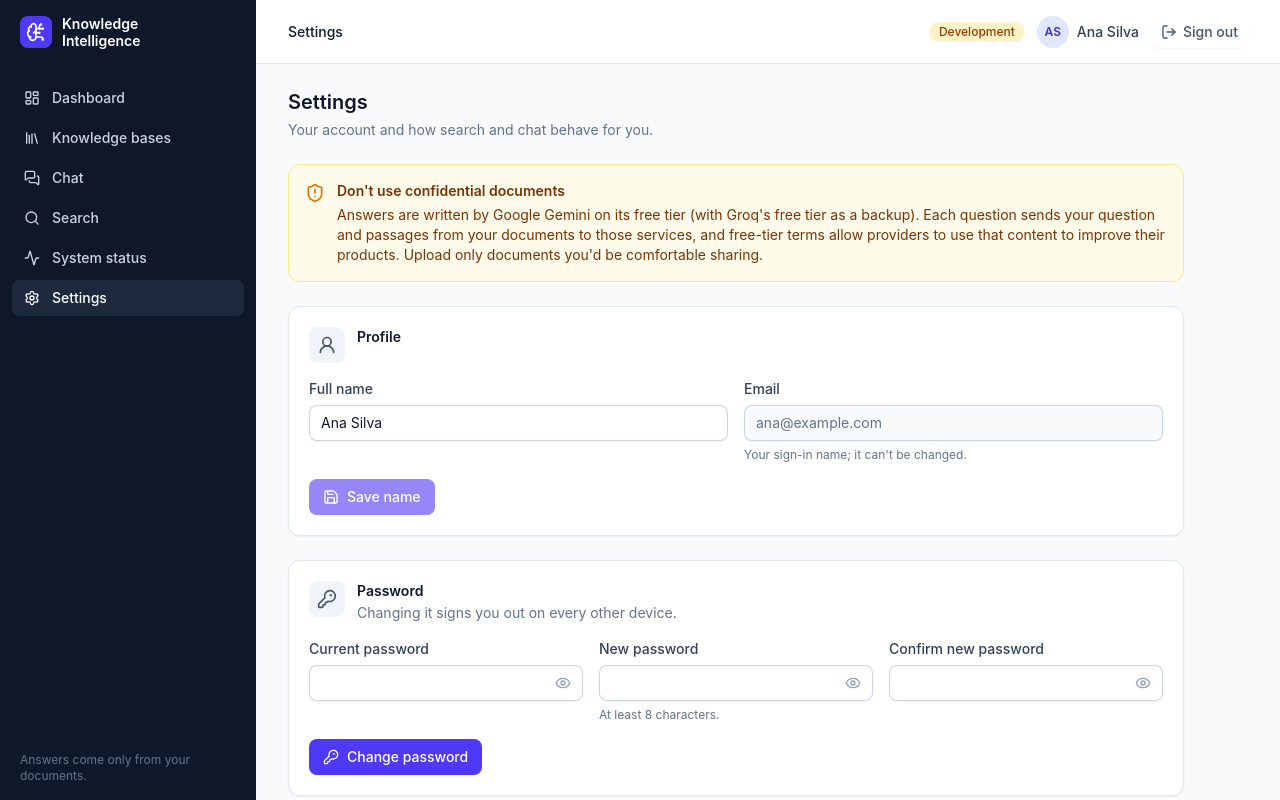
it: settings page › checks the new password before sending it
The width and height of the screenshot is (1280, 800).
In the password field labelled "Current password": (446, 683) 309,665 -> 583,701, type "old-password"
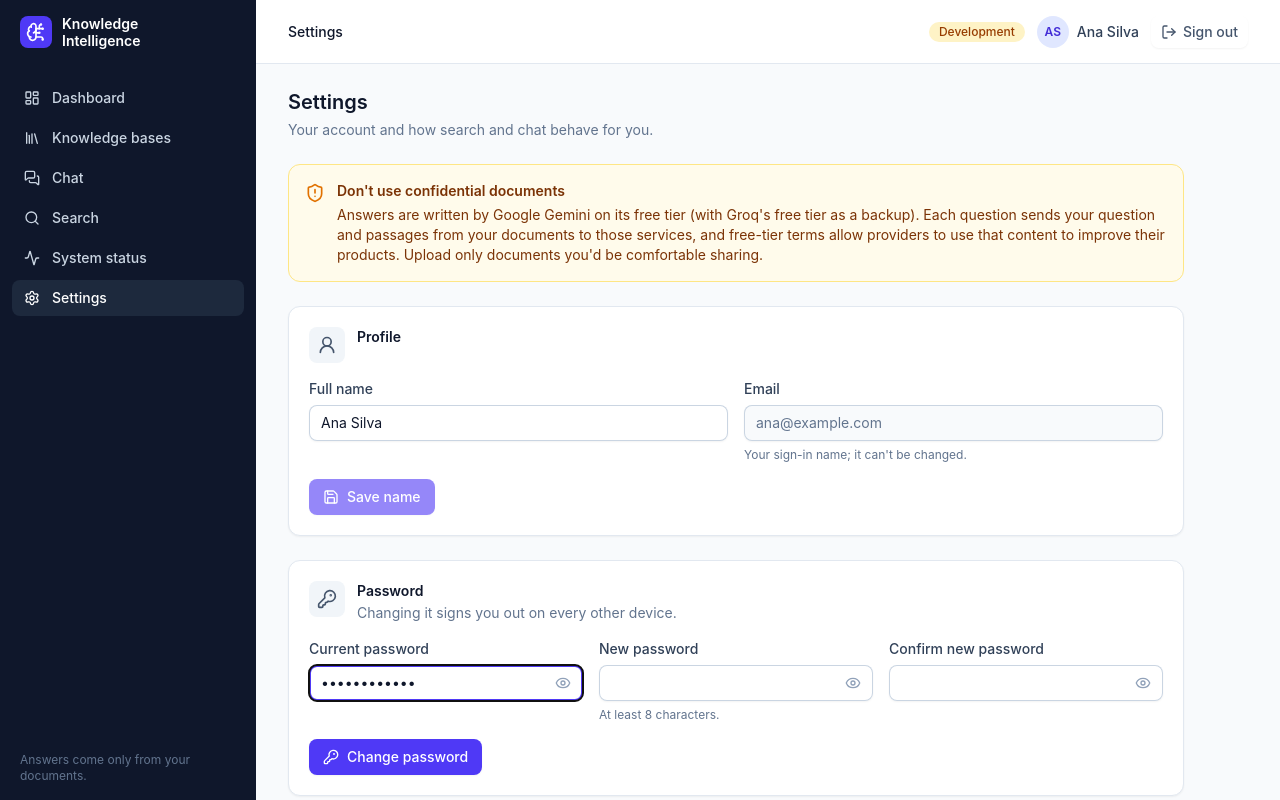
In the password field labelled "New password": (736, 683) 599,665 -> 873,701, type "short"
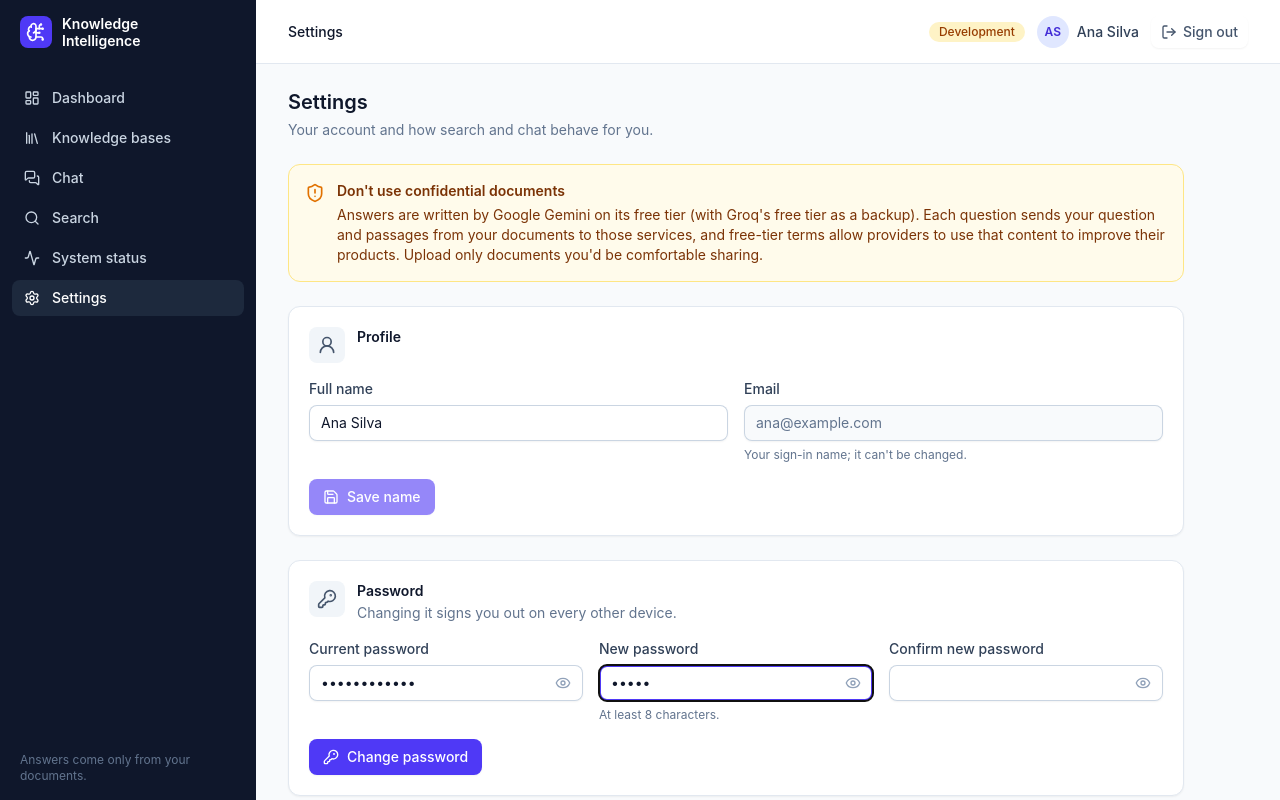
In the password field labelled "Confirm new password": (1026, 683) 889,665 -> 1163,701, type "other"
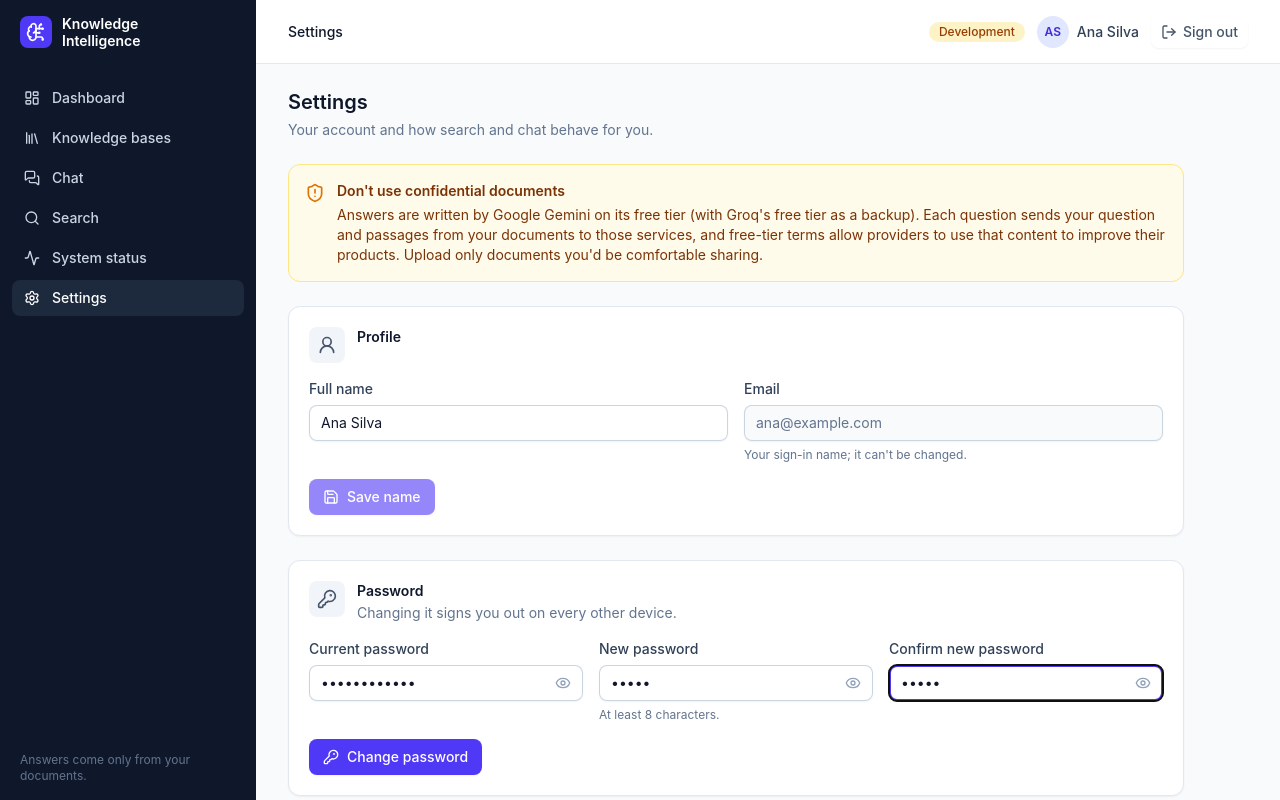
Click the button "Change password": (396, 757) 309,739 -> 482,775
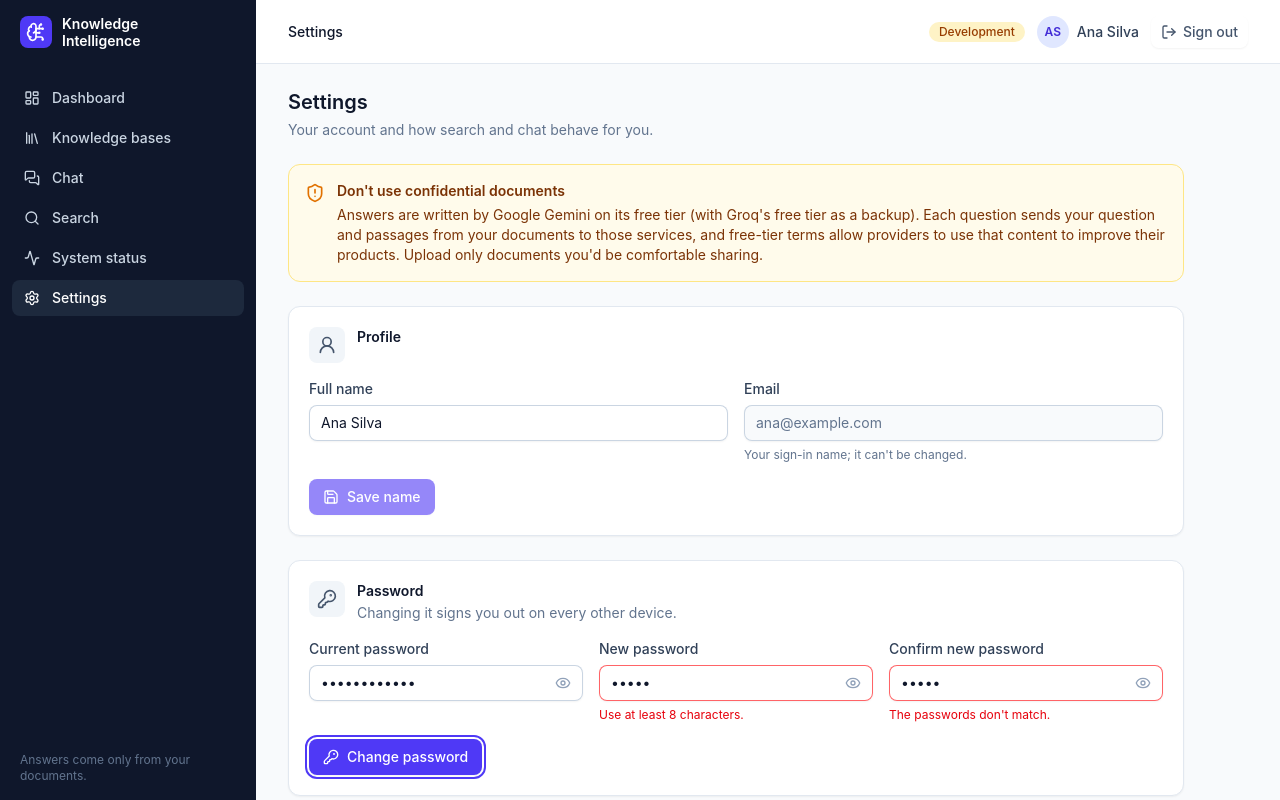
Check: the text "Use at least 8 characters." is shown, box 599,707 -> 744,722
Check: the text "The passwords don't match." is shown, box 889,707 -> 1050,722
